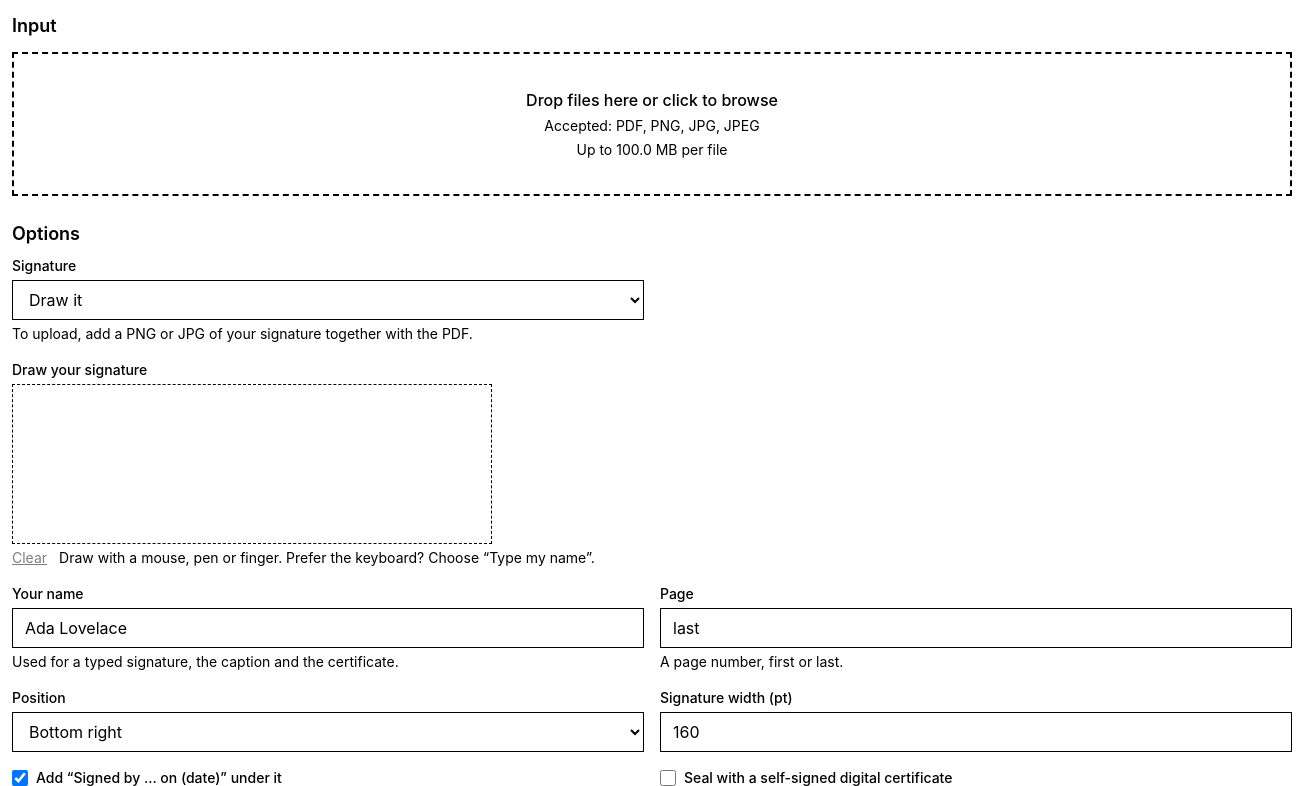
Test case: tool options › shows the signature pad only while 'Draw it' is chosen (06)
The width and height of the screenshot is (1304, 786).
Expected: the picture with test id "signature-pad" is shown, [12,384,492,544]
Expected: the button with aria-label "clear signature" is disabled, [12,548,47,568]
Select "Type my name" in the dropdown labelled "Signature" at (328, 300), box [12,280,644,320]
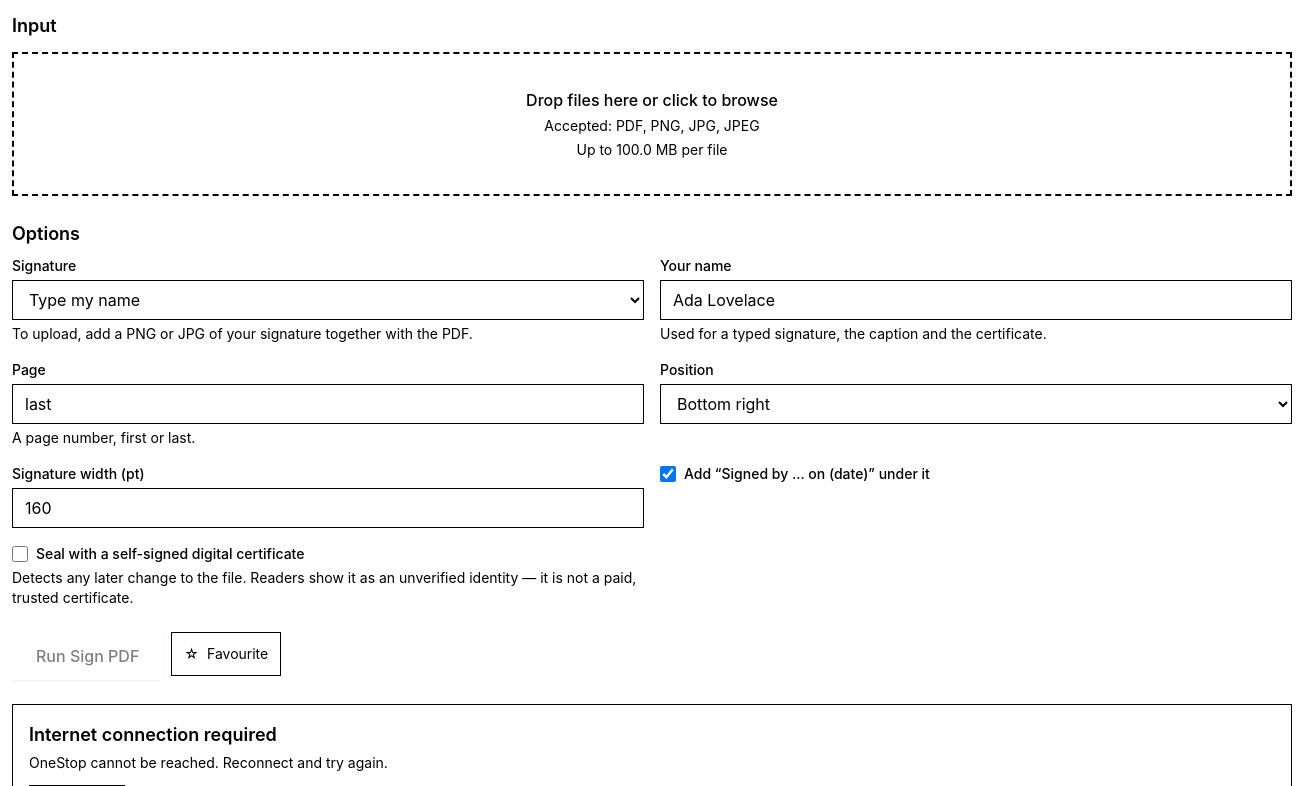
Result: the picture with test id "signature-pad" is gone
